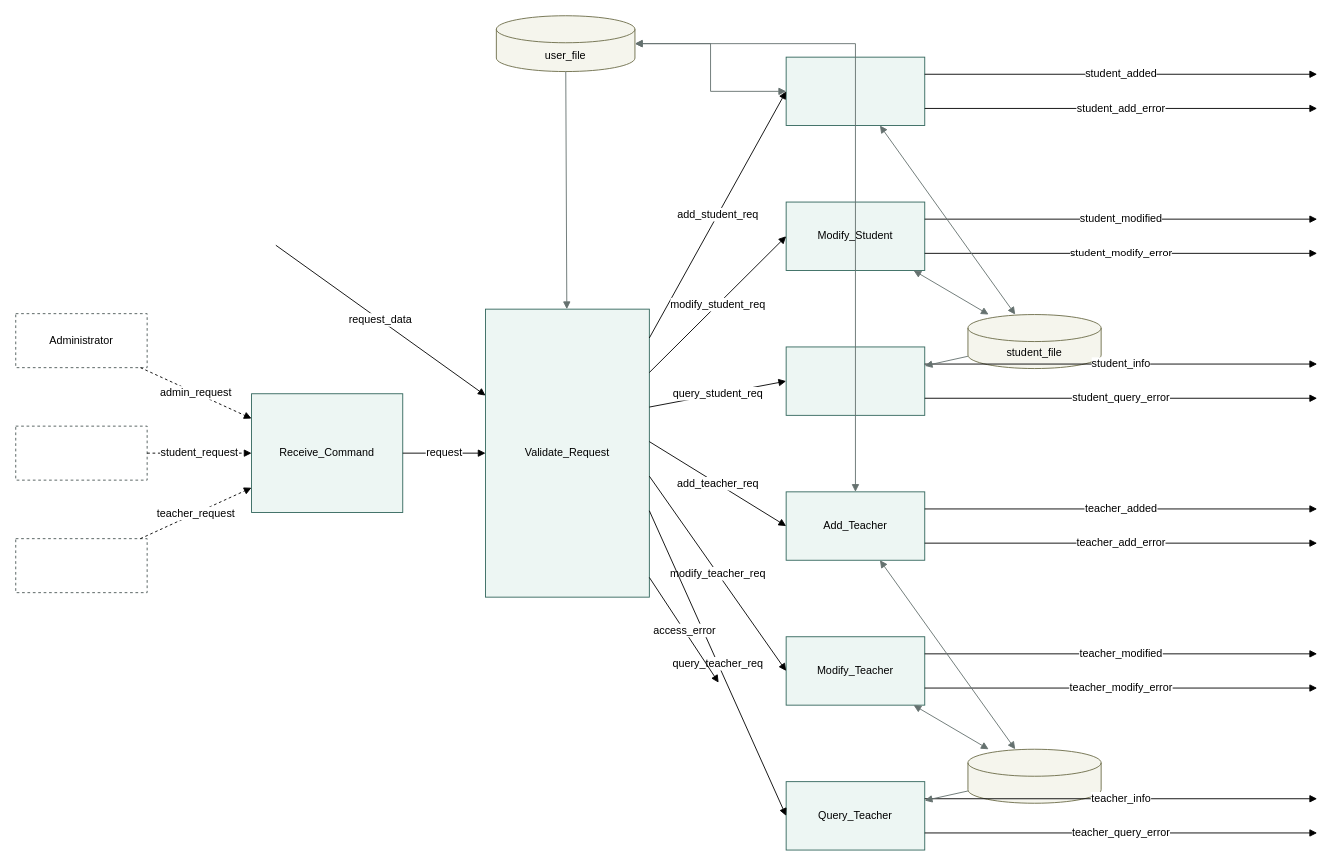
Some shapes in this 1340 by 866 pixel diagram are drawn without their labels. Each missing label, with the box of its shape:
Add_Student: (785, 56, 925, 126)
Query_Student: (785, 346, 925, 415)
Student: (15, 425, 147, 480)
Teacher: (15, 538, 147, 593)
teacher_file: (967, 748, 1101, 803)
